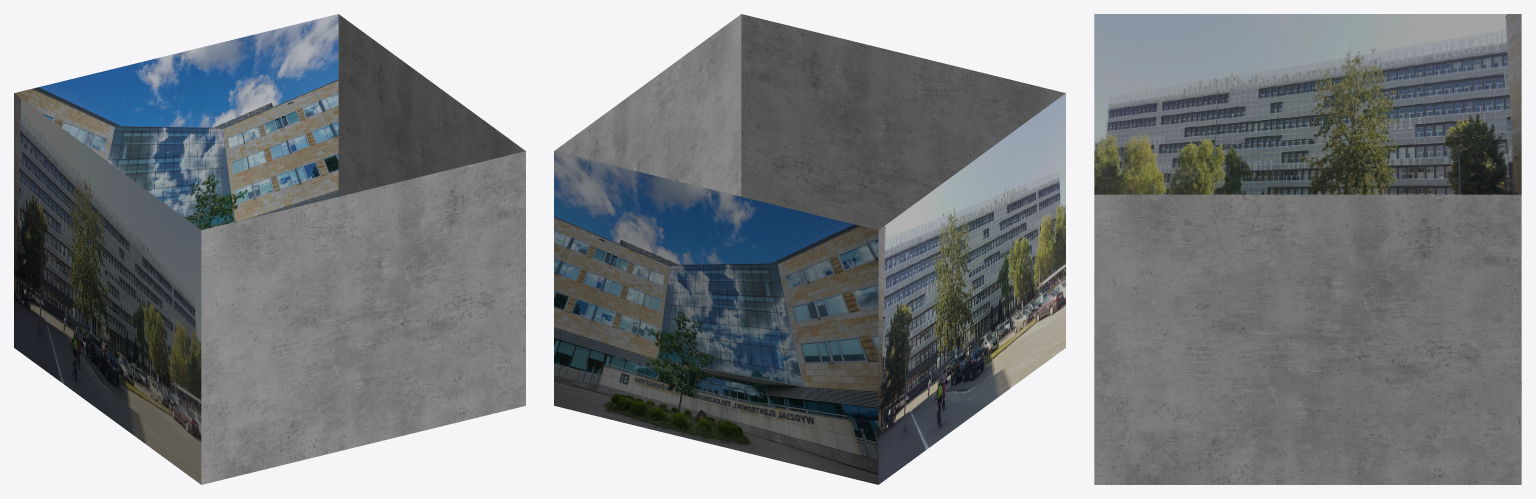
Rendered from Robot4.gltf.
3 views of the same model, side by side, from view 1: azimuth 30°, elevation 25°; view 2: azimuth 150°, elevation 25°; view 3: azimuth 270°, elevation 25° (orthographic). The views are drawn at different scales.
Parts seen in each view (by area): view 1: Plane.003, Plane.005, Plane.002, Plane.001; view 2: Plane.002, Plane.005, Plane.003, Plane.001; view 3: Plane.001, Plane.005.
Part boxes in pixels (left/top/right/bottom): Plane.003: left=201, top=151, right=525, bottom=484; Plane.005: left=14, top=93, right=201, bottom=484; Plane.002: left=14, top=14, right=338, bottom=230; Plane.001: left=338, top=14, right=525, bottom=196; Plane.002: left=554, top=151, right=878, bottom=484; Plane.005: left=878, top=93, right=1065, bottom=484; Plane.003: left=741, top=14, right=1065, bottom=230; Plane.001: left=554, top=14, right=741, bottom=196; Plane.001: left=1094, top=194, right=1521, bottom=484; Plane.005: left=1094, top=14, right=1521, bottom=194.
Size of the model in its own units: 80 by 60 by 80.
